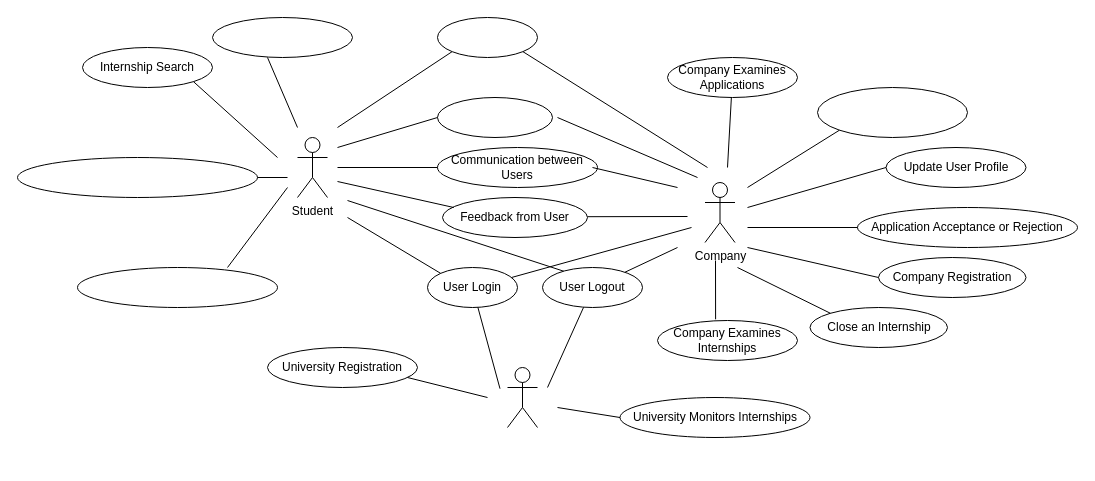
Image size: 1095x481. Some labels were removed from this diagram. Each missing label, with the centre of its shape:
"Further Assessment for Application" goes at [892,112].
"Internship Application" goes at [282,37].
"Post a new internship" goes at [487,37].
"Student Examines Applications" goes at [177,287].
"Student Examines Internship Positions" goes at [137,177].
"Student Registration" goes at [494,117].
"University" goes at [522,397].
